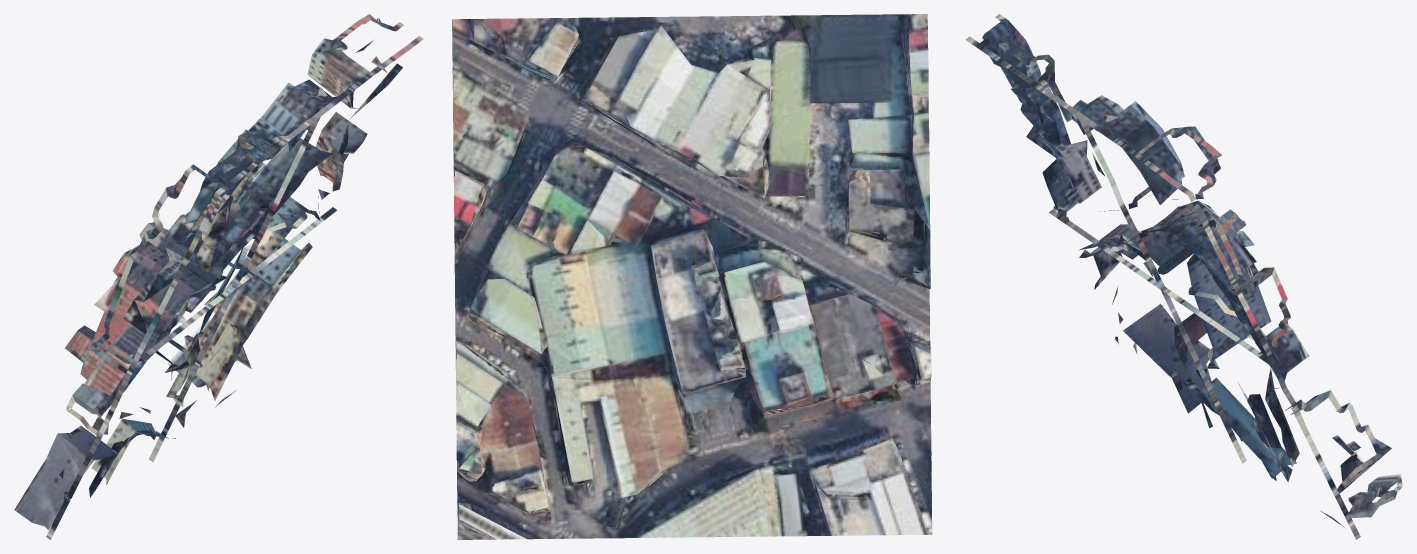
3 views of the same model, side by side, from view 1: azimuth 30°, elevation 25°; view 2: azimuth 150°, elevation 25°; view 3: azimuth 270°, elevation 25° (orthographic). The views are drawn at different scales.
Size of the model in its own units: 158 by 147 by 141.
Materials: 1 (1 with a texture image).
